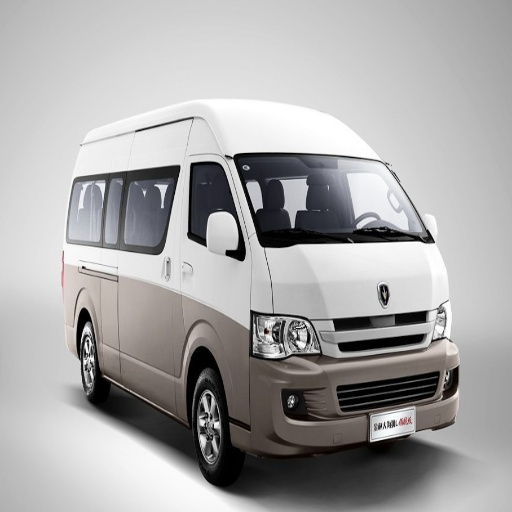front_bumper: (226, 309, 460, 455)
front_right_door: (119, 118, 250, 408)
front_right_light: (252, 314, 318, 360)
